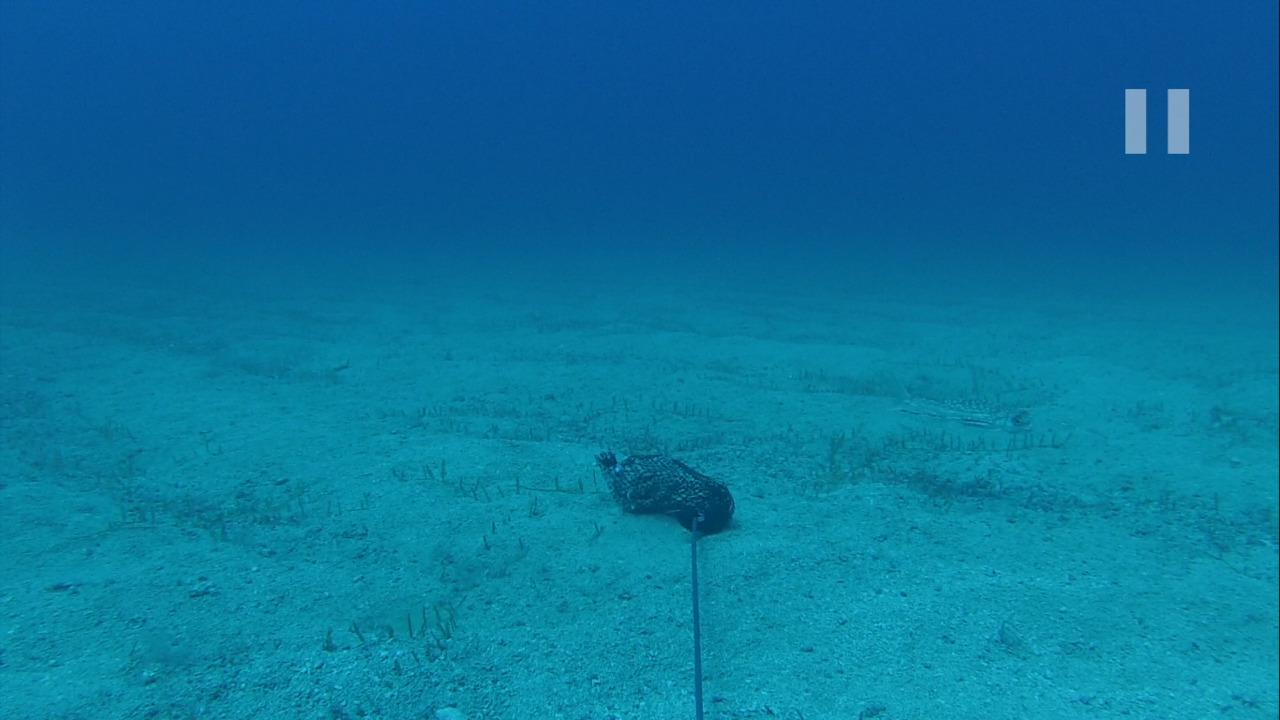dactylopterus: (897, 382, 1030, 433)
